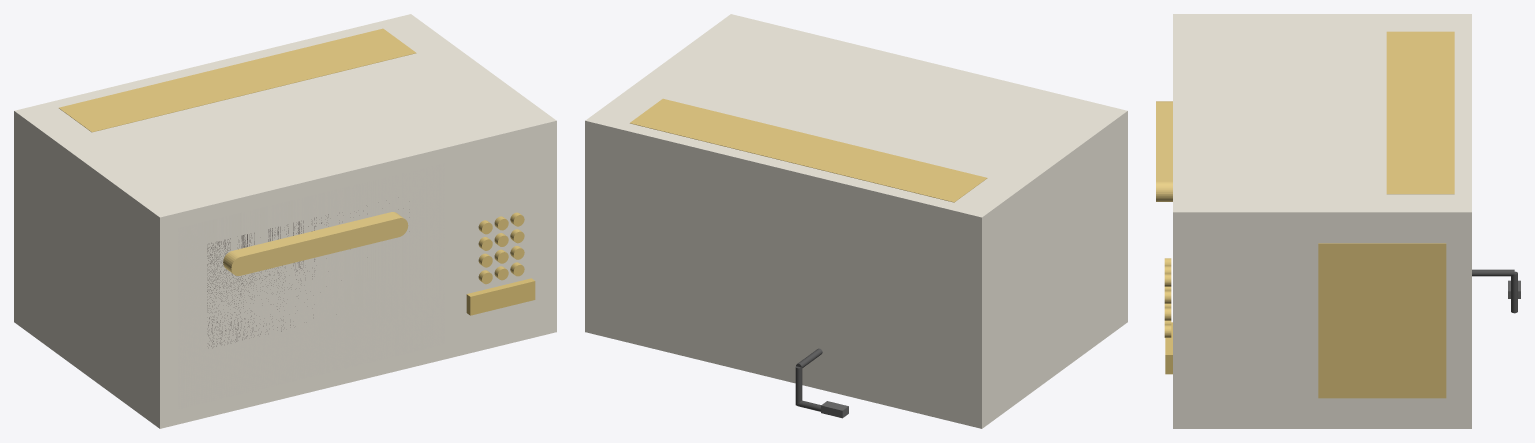
3 renders of one model, left to right at view 1: azimuth 30°, elevation 25°; view 2: azimuth 150°, elevation 25°; view 3: azimuth 270°, elevation 25°, orthographic. The views are drawn at different scales.
Parts seen in each view (by area): view 1: Microwave_Shell, Door_Frame, Top_Vent, Door_Handle, Door_Open_Button, Door_Window; view 2: Microwave_Shell, Top_Vent; view 3: Microwave_Shell, Side_Vent, Top_Vent, Door_Handle, Handle_Cap_Right.
Part boxes in pixels (box(x1,y1,x2,y2)): Microwave_Shell: box(14, 14, 556, 428); Door_Frame: box(178, 163, 444, 408); Top_Vent: box(59, 28, 416, 132); Door_Handle: box(232, 212, 399, 275); Door_Open_Button: box(466, 278, 535, 315); Door_Window: box(207, 214, 328, 346); Microwave_Shell: box(585, 14, 1127, 428); Top_Vent: box(630, 98, 987, 202); Microwave_Shell: box(1173, 14, 1471, 428); Side_Vent: box(1318, 243, 1446, 398); Top_Vent: box(1386, 31, 1454, 194); Door_Handle: box(1156, 102, 1172, 181); Handle_Cap_Right: box(1156, 181, 1172, 201).
Bounding box in the file's own units: 0.5505 × 0.2825 × 0.4275.
